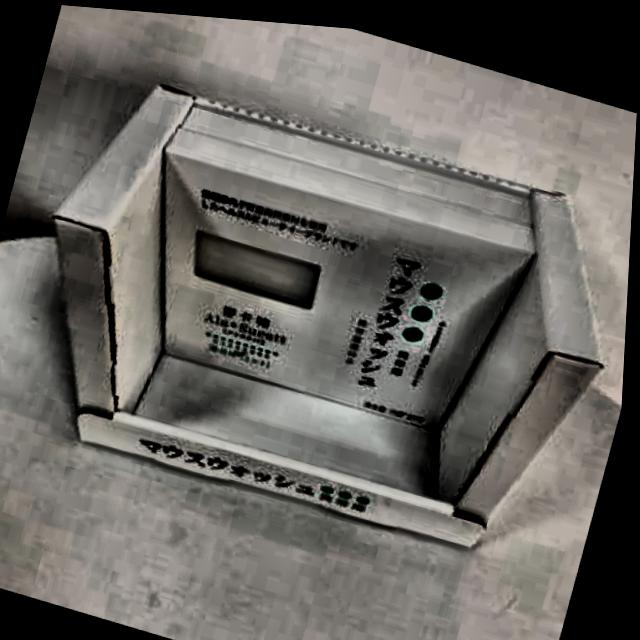Cardbox: (20, 3, 640, 640)
